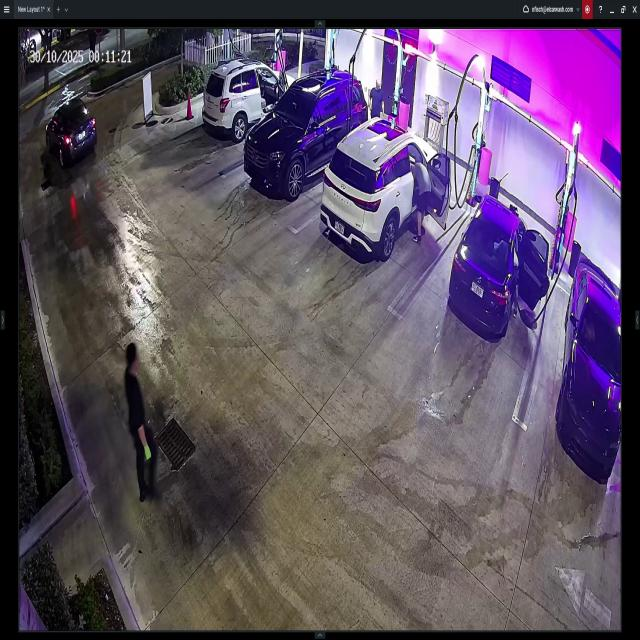Car: (323, 114, 451, 260), (241, 71, 367, 187), (451, 194, 546, 344), (563, 258, 623, 472), (202, 52, 296, 137), (45, 103, 98, 169)
